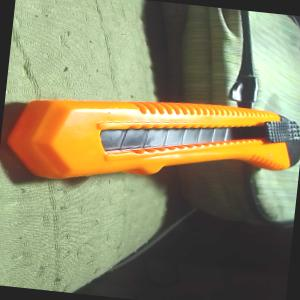estilete: (3, 81, 300, 203)
